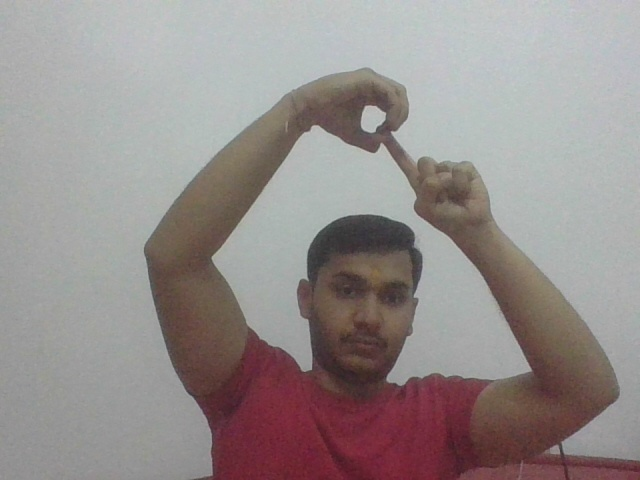Q: (320, 60, 462, 210)
